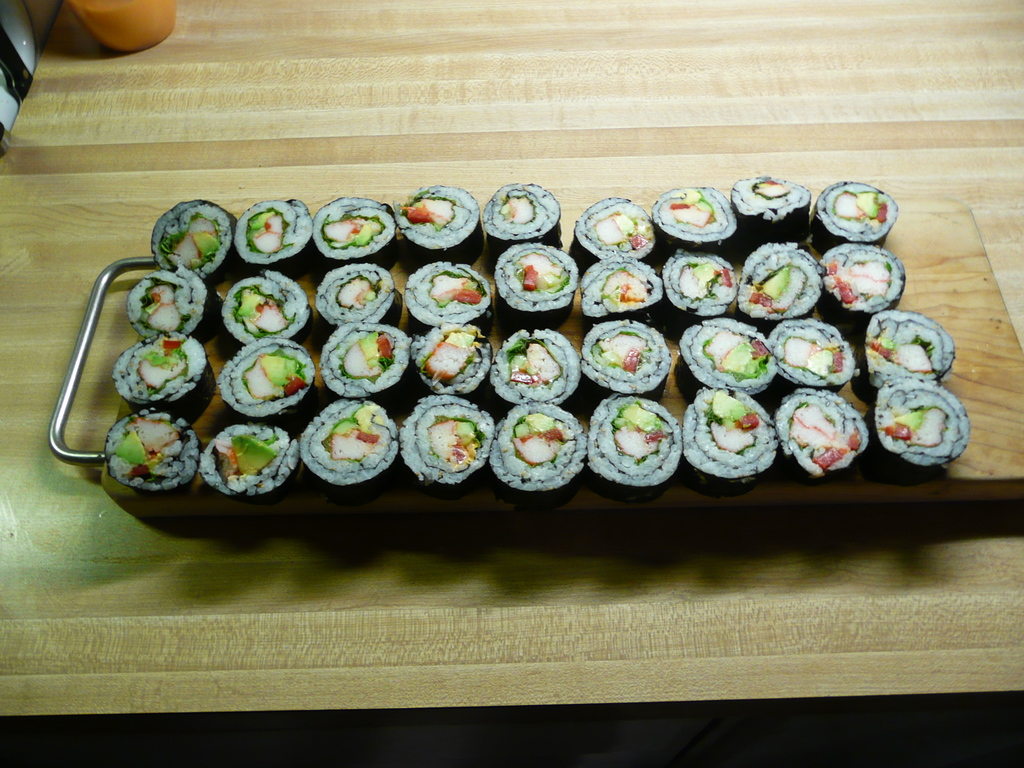sushi: (111, 171, 972, 504), (589, 406, 684, 488), (310, 403, 405, 474)
